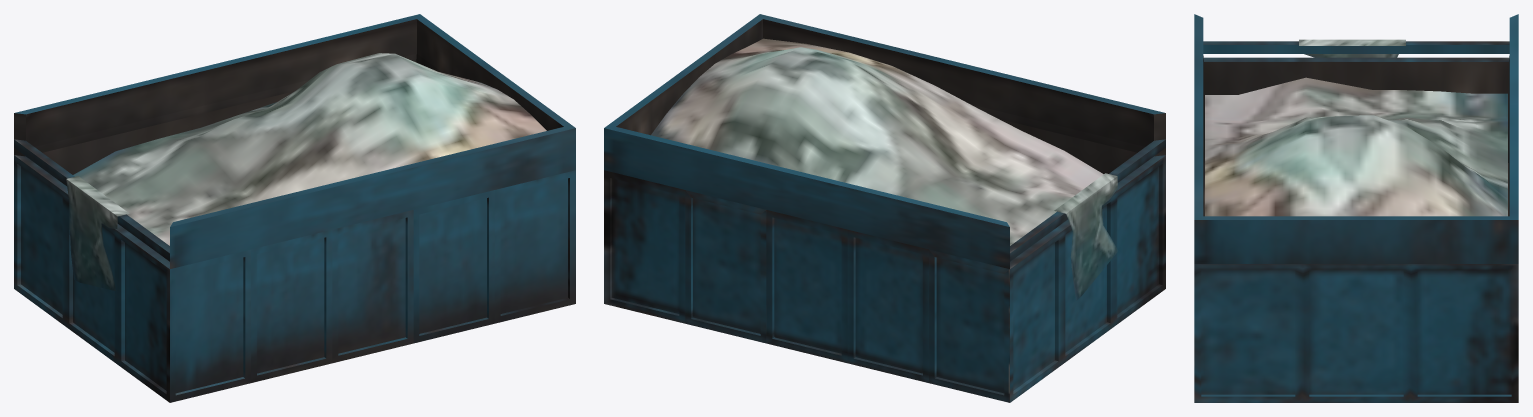
The model's file is dome.glb.
3 renders of one model, left to right at view 1: azimuth 30°, elevation 25°; view 2: azimuth 150°, elevation 25°; view 3: azimuth 270°, elevation 25°, orthographic. The views are drawn at different scales.
Visible parts, largest first — view 1: GlassDumpster; view 2: GlassDumpster; view 3: GlassDumpster.
Part boxes in pixels (x1,y1,x2,y2): GlassDumpster: (14,14,575,402); GlassDumpster: (604,14,1165,402); GlassDumpster: (1194,14,1518,402).
Size of the model in its own units: 30.78 by 15.09 by 20.29.
1 material, 1 textured.
